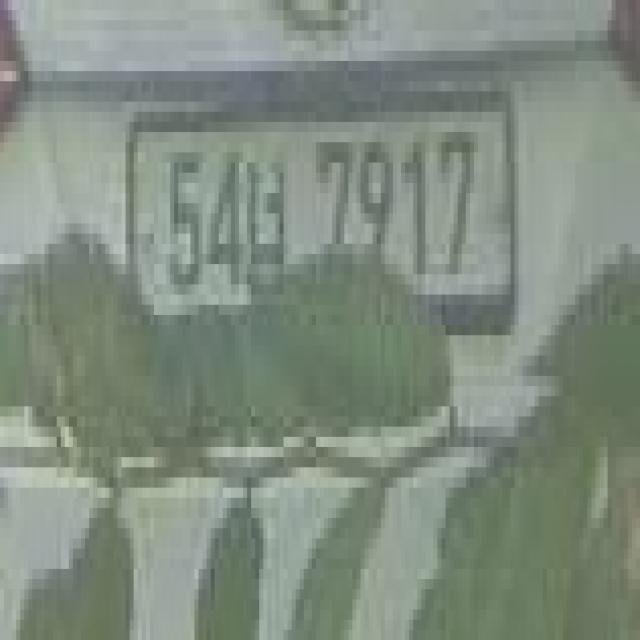1: (397, 102, 433, 325)
4: (207, 102, 243, 304)
5: (154, 143, 198, 284)
7: (429, 112, 486, 284), (304, 132, 356, 264)
9: (360, 132, 397, 285)
license_plate: (114, 81, 522, 356)
neo: (243, 153, 300, 284)
